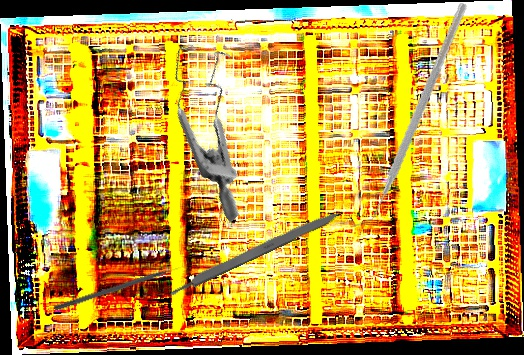Chopper: (320, 1, 499, 229)
Pusher: (53, 262, 189, 313)
Scalpel Handle: (166, 205, 345, 298)
Speculum: (120, 26, 314, 223)
